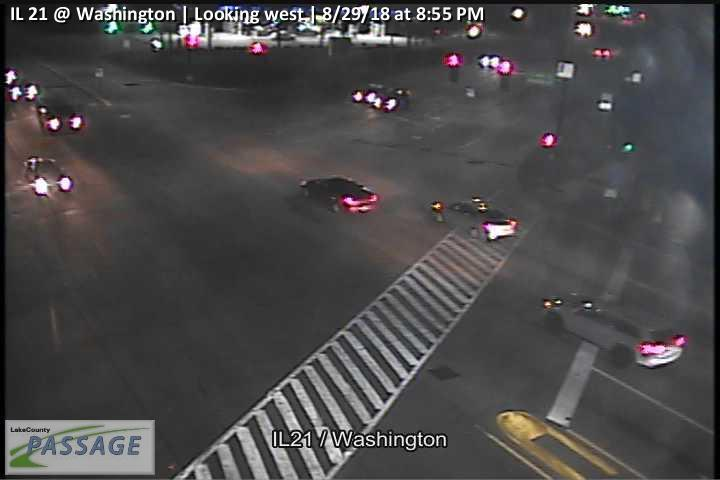SUV: (542, 291, 686, 370), (34, 91, 83, 135)
Sedan: (431, 197, 517, 240), (302, 175, 379, 214), (22, 157, 72, 196)
